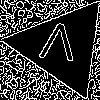V: (37, 21, 79, 71)
